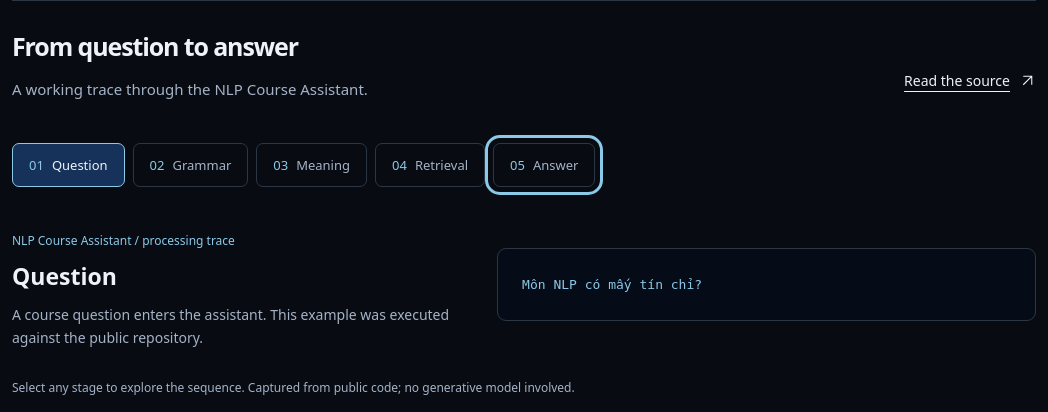
Test case: Architecture sequence › keeps every verified stage reachable by keyboard without scrolling
Press Enter
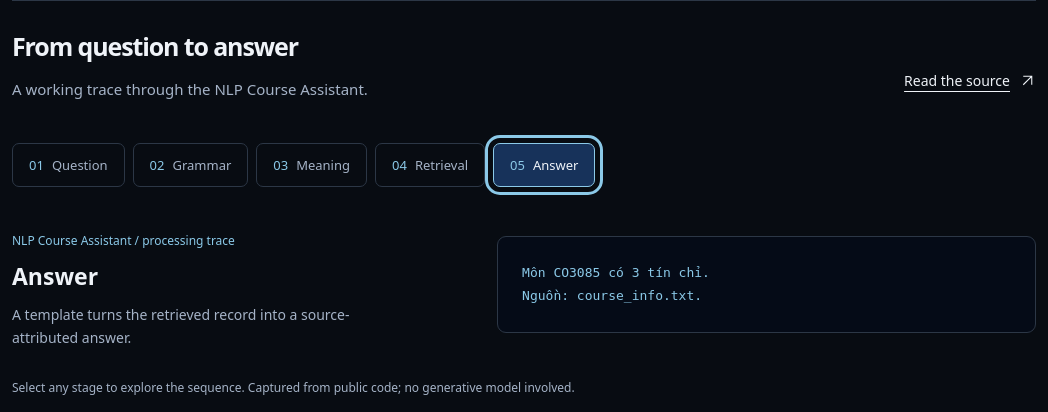
Result: the element named "Answer trace" shows "3 tín chỉ" at x1=522 y1=265 x2=710 y2=303
Click the button with aria-label "03 Meaning" at (312, 165), box x1=256 y1=142 x2=367 y2=187
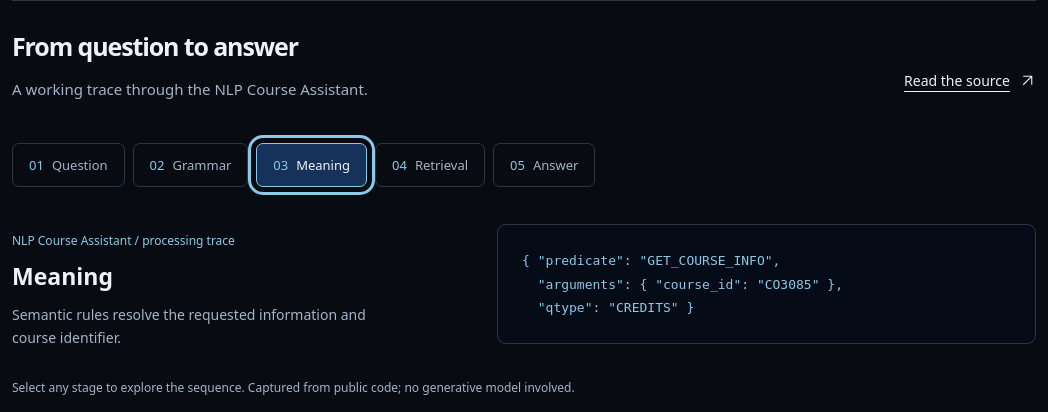
Result: the element named "Meaning trace" shows "GET_COURSE_INFO" at x1=522 y1=253 x2=843 y2=315
